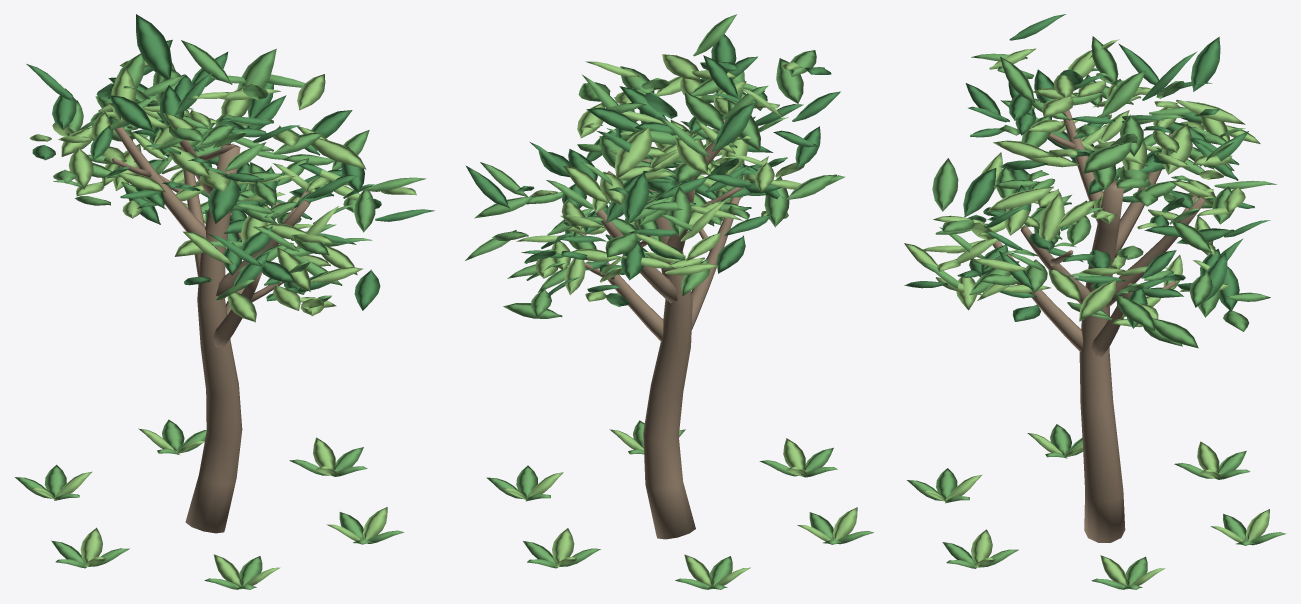
Rendered from SM_PlantTree.fbx.
3 renders of one model, left to right at view 1: azimuth 30°, elevation 25°; view 2: azimuth 150°, elevation 25°; view 3: azimuth 270°, elevation 25°, orthographic. The views are drawn at different scales.
Visible parts, largest first — view 1: PlantTree; view 2: PlantTree; view 3: PlantTree.
Boxes of the visible parts, x1,y1,x2,y2 form: PlantTree: [14, 14, 434, 589]; PlantTree: [465, 14, 873, 589]; PlantTree: [904, 14, 1286, 589].
Bounding box in the file's own units: 1.48 × 1.92 × 1.4.
